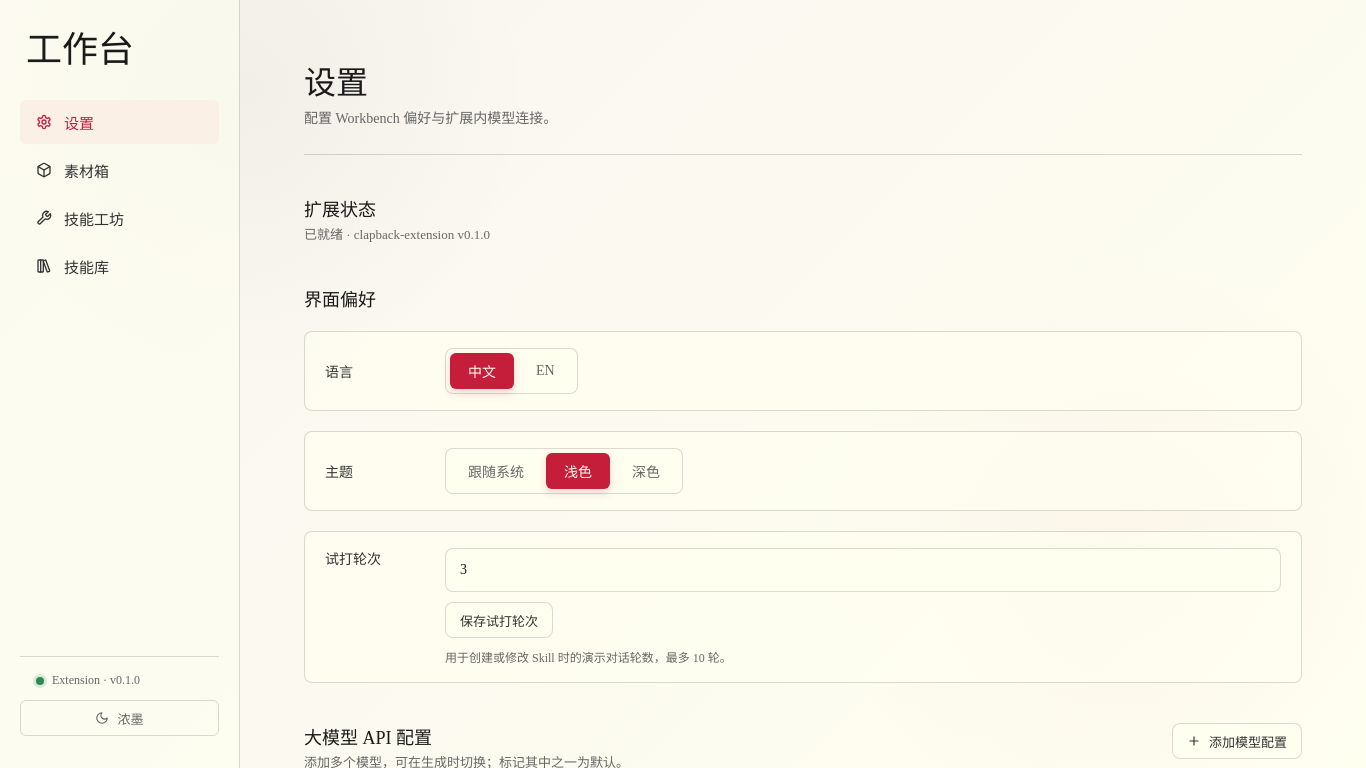
Test: Workbench App › prefills OpenCode Go with DeepSeek V4 Flash as the default model
Click the button "添加模型配置". click: (1237,741)
box: [1172,723,1302,759]
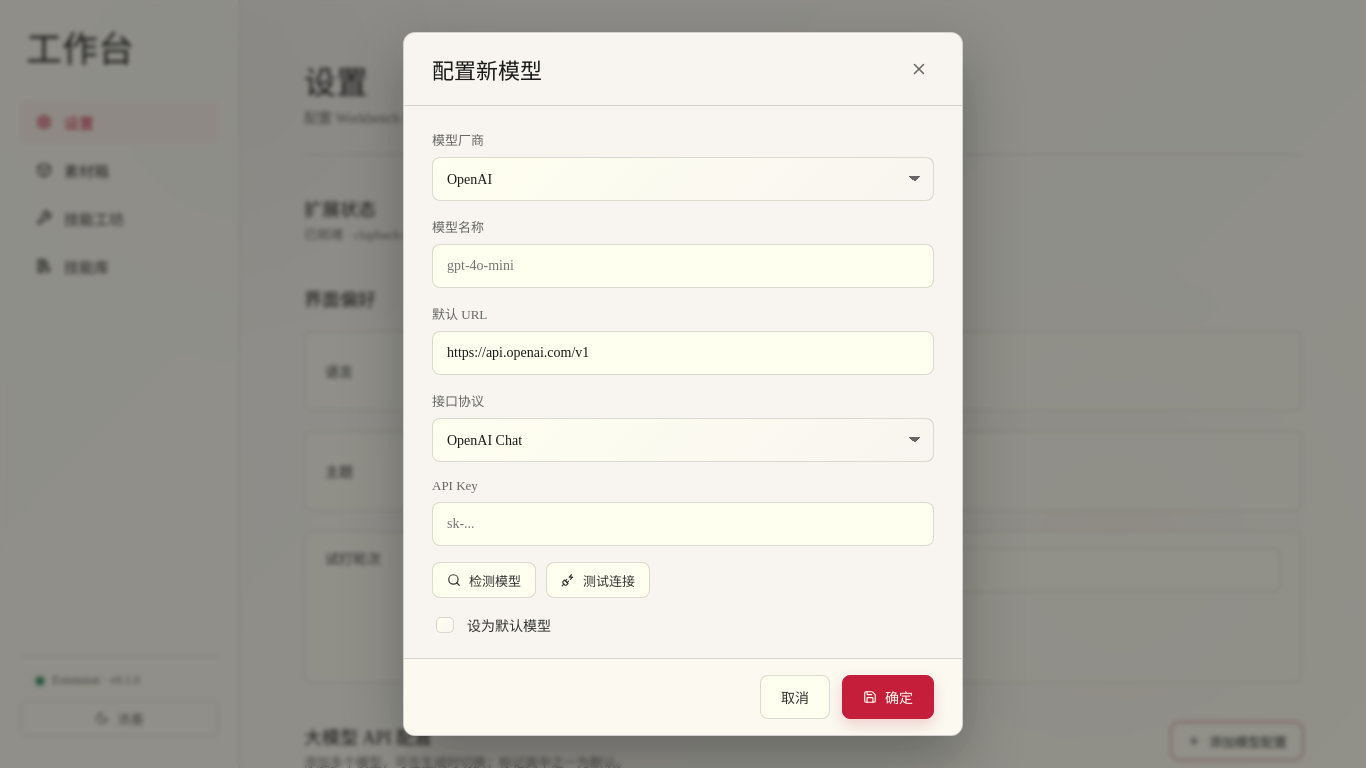
Select "OpenCode Go" in the dropdown labelled "模型厂商". click: (683,179)
box: [432,157,934,201]
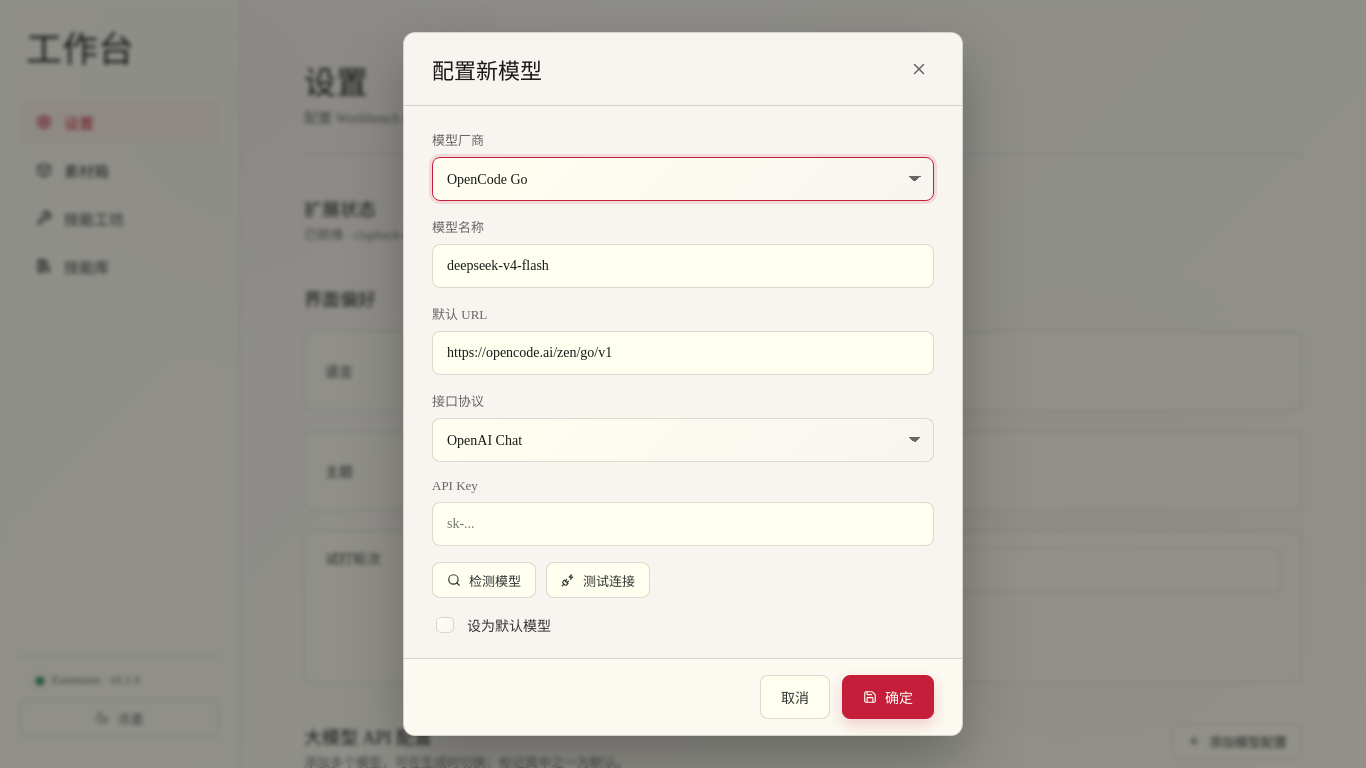
Check: the dropdown labelled "接口协议" shows "OpenAI Chat", box [432,418,934,462]
Check: the field labelled "模型名称" holds "deepseek-v4-flash", box [432,244,934,288]
Check: the field labelled "默认 URL" holds "https://opencode.ai/zen/go/v1", box [432,331,934,375]
